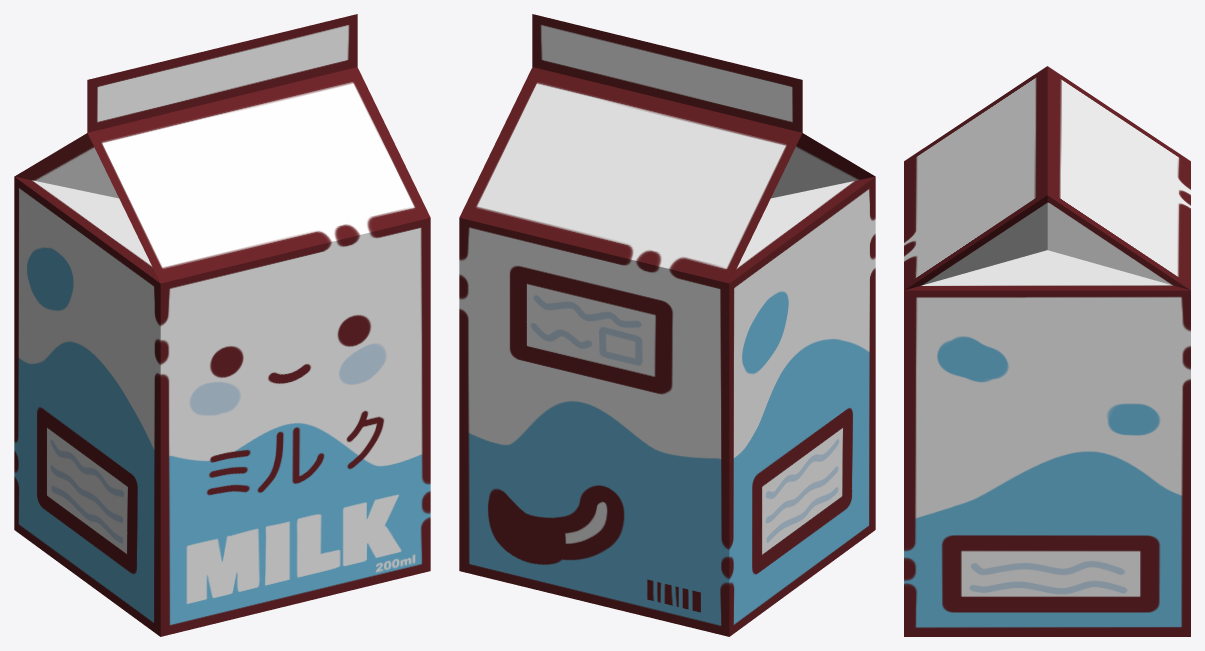
Rendered from Milk 2B.fbx.
3 views of the same model, side by side, from view 1: azimuth 30°, elevation 25°; view 2: azimuth 150°, elevation 25°; view 3: azimuth 270°, elevation 25° (orthographic).
Parts seen in each view (by area): view 1: Cubo; view 2: Cubo; view 3: Cubo.
Part boxes in pixels (left/top/right/bottom): Cubo: left=14, top=14, right=430, bottom=636; Cubo: left=459, top=14, right=875, bottom=636; Cubo: left=904, top=66, right=1190, bottom=636.
Size of the model in its own units: 160 by 285 by 150.
Materials: 1 (1 with a texture image).
